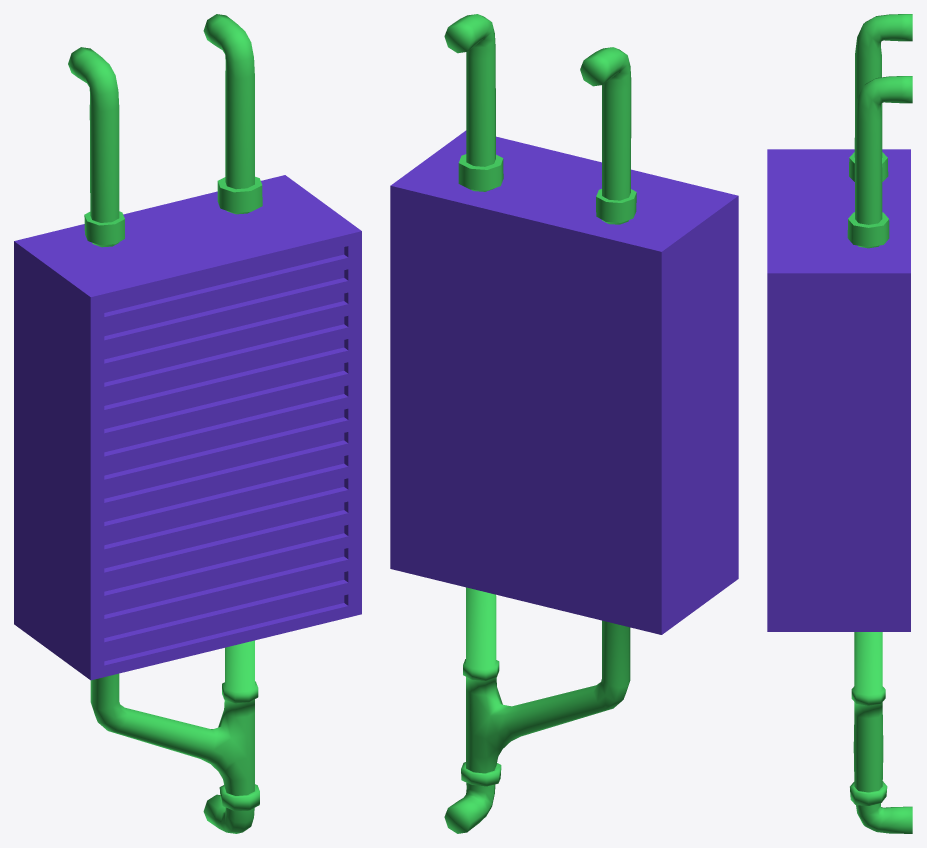
File: wall_box_1.fbx
3 views of the same model, side by side, from view 1: azimuth 30°, elevation 25°; view 2: azimuth 150°, elevation 25°; view 3: azimuth 270°, elevation 25° (orthographic). The views are drawn at different scales.
Visible parts, largest first — view 1: Cube; view 2: Cube; view 3: Cube.
Part boxes in pixels (left/top/right/bottom): Cube: left=14, top=14, right=361, bottom=833; Cube: left=390, top=14, right=738, bottom=833; Cube: left=767, top=14, right=912, bottom=833.
Bounding box in the file's own units: 40 × 114 × 19.8.
